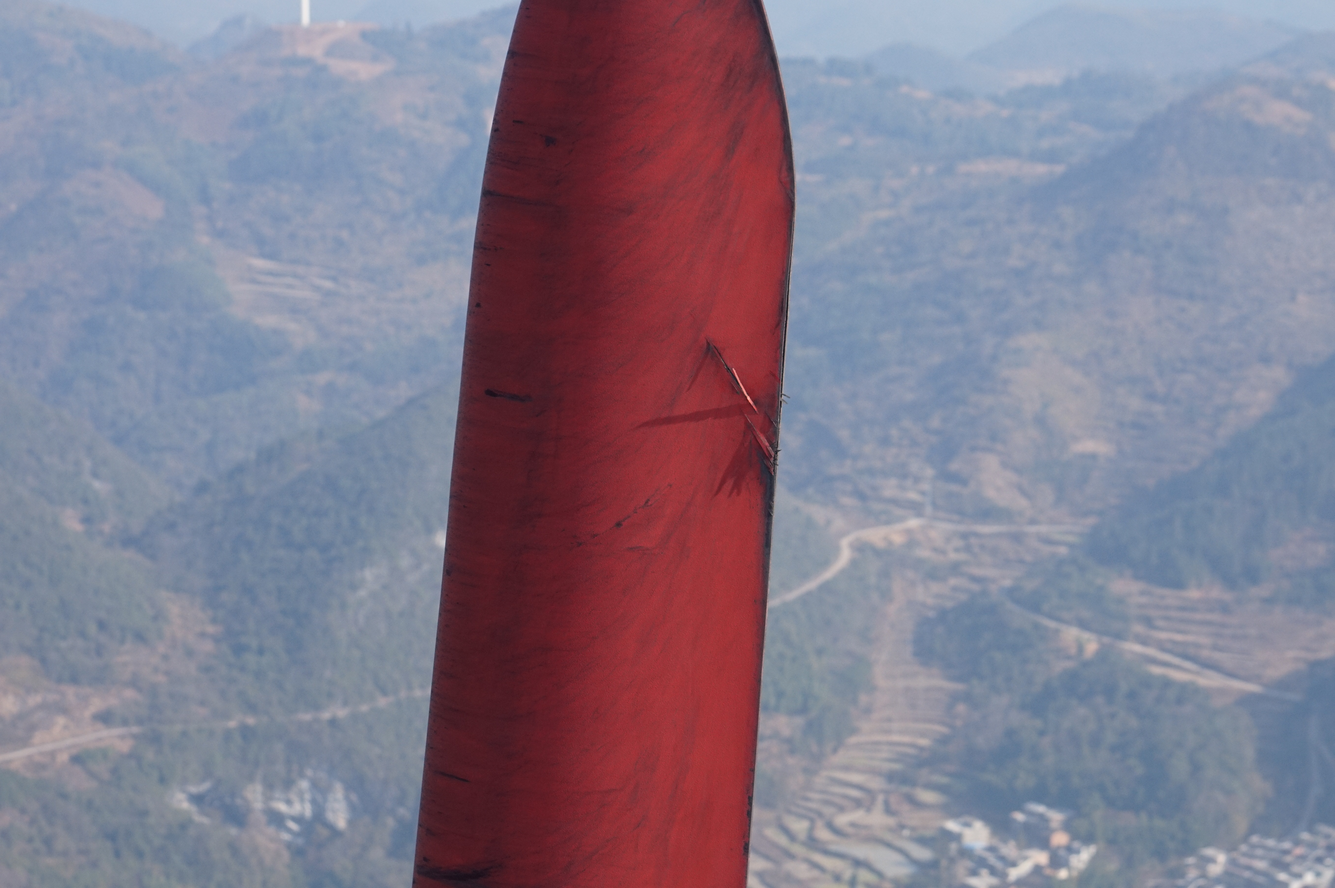Damage: (774, 207, 794, 484), (707, 337, 759, 413), (742, 412, 776, 477)
Dirt: (417, 862, 505, 888), (484, 388, 534, 403)
